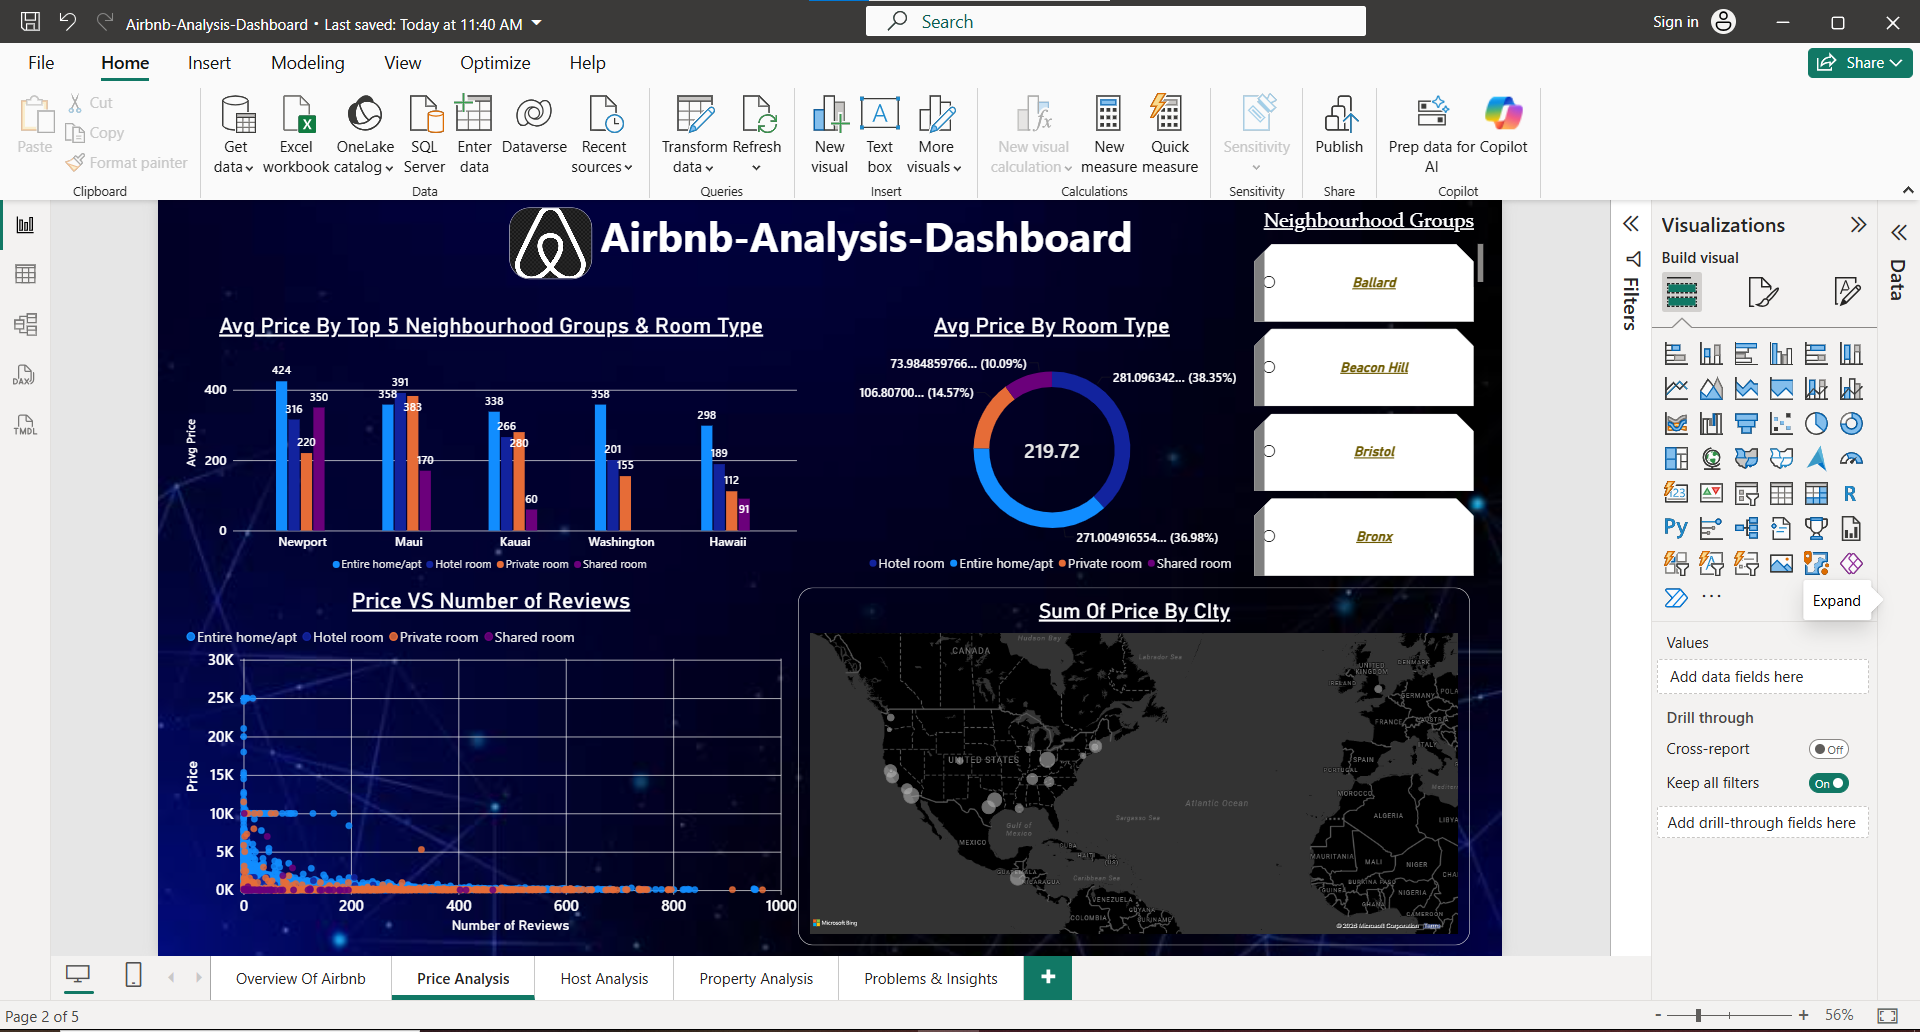

What the dashboard file says about the page in this screenshot:
{"tool":"powerbi","page":{"name":"Price Analysis","canvas":[1920,1080],"ordinal":1},"visuals":[{"type":"shape","box":[0,10.9,1920,124],"z":0},{"type":"image","box":[502,10,118,102],"z":1000},{"type":"textbox","box":[632.7,10.9,1241.8,101.8],"z":2000},{"type":"clusteredColumnChart","title":"Avg Price By Top 5 Neighbourhood Groups & Room Type","fields":{"Category":["AB_US_2020.neighbourhood_group"],"Series":["AB_US_2020.room_type"],"Y":["AB_US_2020.Avg Price"]},"box":[23.6,147.3,905.5,405.5],"z":3000},{"type":"scatterChart","title":"Price VS Number of Reviews","fields":{"Series":["AB_US_2020.room_type"],"X":["AB_US_2020.number_of_reviews"],"Y":["AB_US_2020.price"]},"box":[23.6,540,905.5,523.6],"z":4000},{"type":"donutChart","title":"Avg Price By Room Type","fields":{"Category":["AB_US_2020.room_type"],"Y":["AB_US_2020.Avg Price"]},"box":[960,147.3,632.7,405.5],"z":5000},{"type":"map","title":"Sum Of Price By  CIty","fields":{"Category":["AB_US_2020.city"],"Size":["Avg(AB_US_2020.price)"]},"box":[914.5,552.7,960,510.9],"z":6000},{"type":"advancedSlicerVisual","title":"Neighbourhood Groups","fields":{"Values":["AB_US_2020.neighbourhood_group"]},"box":[1565.5,10.9,327.3,529.1],"z":7000}]}

Visuals, with their boxes on the page's 1920x1080 design canvas (x1, y1, x2, y2). These are canvas units, not pixel positions in the 1920x1032 screenshot, which may show the page scaled, cropped or inside an application window:
shape: {"left": 0, "top": 11, "right": 1920, "bottom": 135}
image: {"left": 502, "top": 10, "right": 620, "bottom": 112}
textbox: {"left": 633, "top": 11, "right": 1874, "bottom": 113}
"Avg Price By Top 5 Neighbourhood Groups & Room Type" clusteredColumnChart: {"left": 24, "top": 147, "right": 929, "bottom": 553}
"Price VS Number of Reviews" scatterChart: {"left": 24, "top": 540, "right": 929, "bottom": 1064}
"Avg Price By Room Type" donutChart: {"left": 960, "top": 147, "right": 1593, "bottom": 553}
"Sum Of Price By  CIty" map: {"left": 914, "top": 553, "right": 1874, "bottom": 1064}
"Neighbourhood Groups" advancedSlicerVisual: {"left": 1566, "top": 11, "right": 1893, "bottom": 540}
